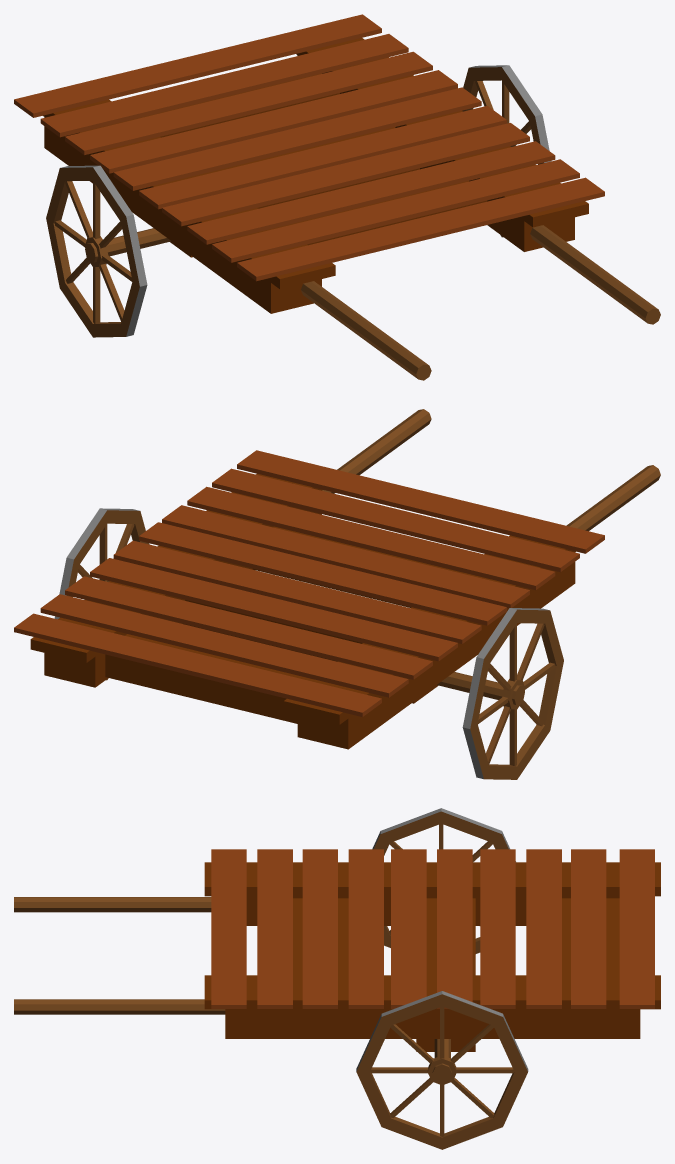
Rendered from WAGONFAMILY_V1.fbx.
3 renders of one model, top to bottom at view 1: azimuth 30°, elevation 25°; view 2: azimuth 150°, elevation 25°; view 3: azimuth 270°, elevation 25°, orthographic. The views are drawn at different scales.
Visible parts, largest first — view 1: Cube.015, Cube.004, Cube.007, Cube.005, Cube.011, Cube.009, Cube.003, Cube.010, Cube, Cube.008, Cube.006, Cube.002 (+8 smaller); view 2: Cube.015, Cube.010, Cube.011, Cube.009, Cube.008, Cube, Cube.004, Cube.003, Cube.006, Cube.007, Cube.005, Cube.002 (+8 smaller); view 3: Cube.001, Cube.016, Cube, Cube.003, Cube.004, Cube.005, Cube.011, Cube.009, Cube.010, Cube.008, Cube.006, Cube.007 (+7 smaller).
Part boxes in pixels (<box>): Cube.015: <box>46,165,147,337</box>; Cube.004: <box>187,141,555,244</box>; Cube.007: <box>113,87,481,190</box>; Cube.005: <box>162,123,529,226</box>; Cube.011: <box>14,14,381,117</box>; Cube.009: <box>65,51,432,155</box>; Cube.003: <box>212,159,579,262</box>; Cube.010: <box>40,34,408,137</box>; Cube: <box>237,177,604,281</box>; Cube.008: <box>90,70,457,173</box>; Cube.006: <box>139,105,506,209</box>; Cube.002: <box>43,99,335,313</box>; Cube.015: <box>462,608,563,779</box>; Cube.010: <box>40,594,408,697</box>; Cube.011: <box>14,613,381,716</box>; Cube.009: <box>65,576,432,679</box>; Cube.008: <box>90,558,457,661</box>; Cube: <box>237,450,604,553</box>; Cube.004: <box>187,486,555,590</box>; Cube.003: <box>212,468,579,572</box>; Cube.006: <box>139,522,506,625</box>; Cube.007: <box>113,540,481,643</box>; Cube.005: <box>162,505,529,608</box>; Cube.002: <box>283,535,575,749</box>; Cube.001: <box>204,975,660,1038</box>; Cube.016: <box>356,991,528,1149</box>; Cube: <box>211,849,246,1008</box>; Cube.003: <box>257,849,292,1008</box>; Cube.004: <box>302,849,337,1008</box>; Cube.005: <box>348,849,383,1008</box>; Cube.011: <box>619,849,654,1008</box>; Cube.009: <box>526,849,561,1008</box>; Cube.010: <box>571,849,606,1008</box>; Cube.008: <box>480,849,515,1008</box>; Cube.006: <box>391,849,426,1008</box>; Cube.007: <box>437,849,472,1008</box>.
Size of the model in its own units: 331 by 127 by 480.
